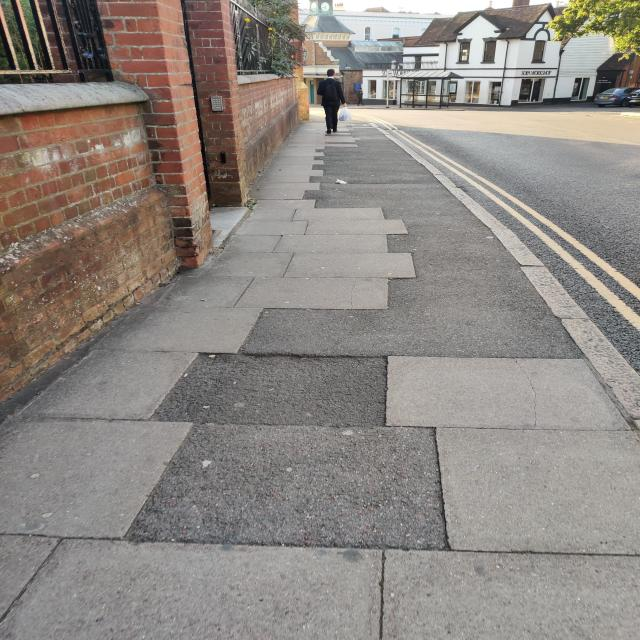litter: (335, 179, 347, 184), (183, 373, 188, 377), (201, 299, 207, 301)
